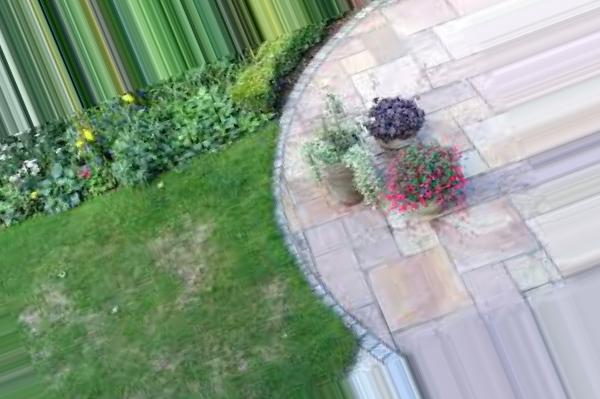patch: (30, 288, 116, 359), (150, 228, 230, 299), (263, 284, 293, 345)
